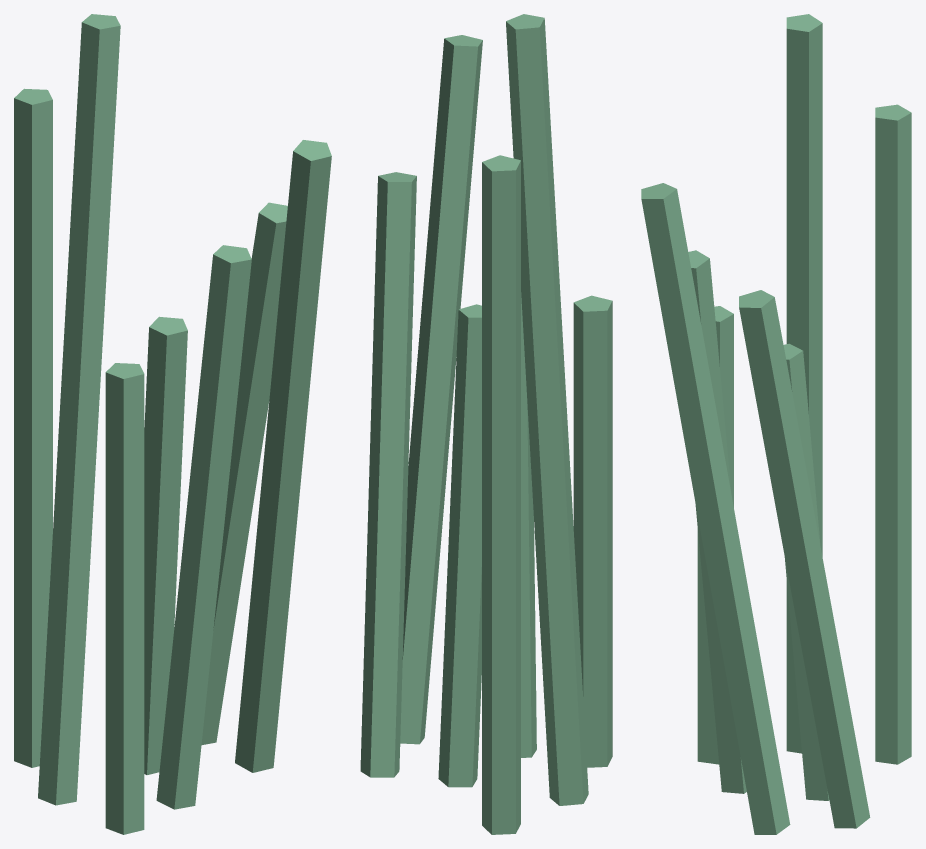
Rendered from reed.glb.
3 renders of one model, left to right at view 1: azimuth 30°, elevation 25°; view 2: azimuth 150°, elevation 25°; view 3: azimuth 270°, elevation 25°, orthographic. The views are drawn at different scales.
Visible parts, largest first — view 1: reed; view 2: reed; view 3: reed.
Part boxes in pixels (x1,y1,x2,y2): reed: (14, 14, 331, 834); reed: (360, 14, 612, 834); reed: (641, 14, 911, 834).
Bounding box in the file's own units: 0.581 × 1.85 × 0.6084.
